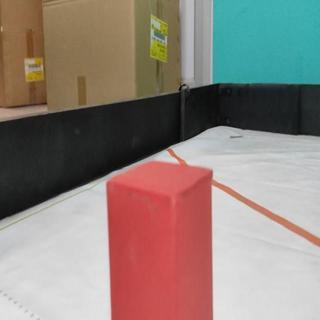redbox: (105, 159, 213, 320)
